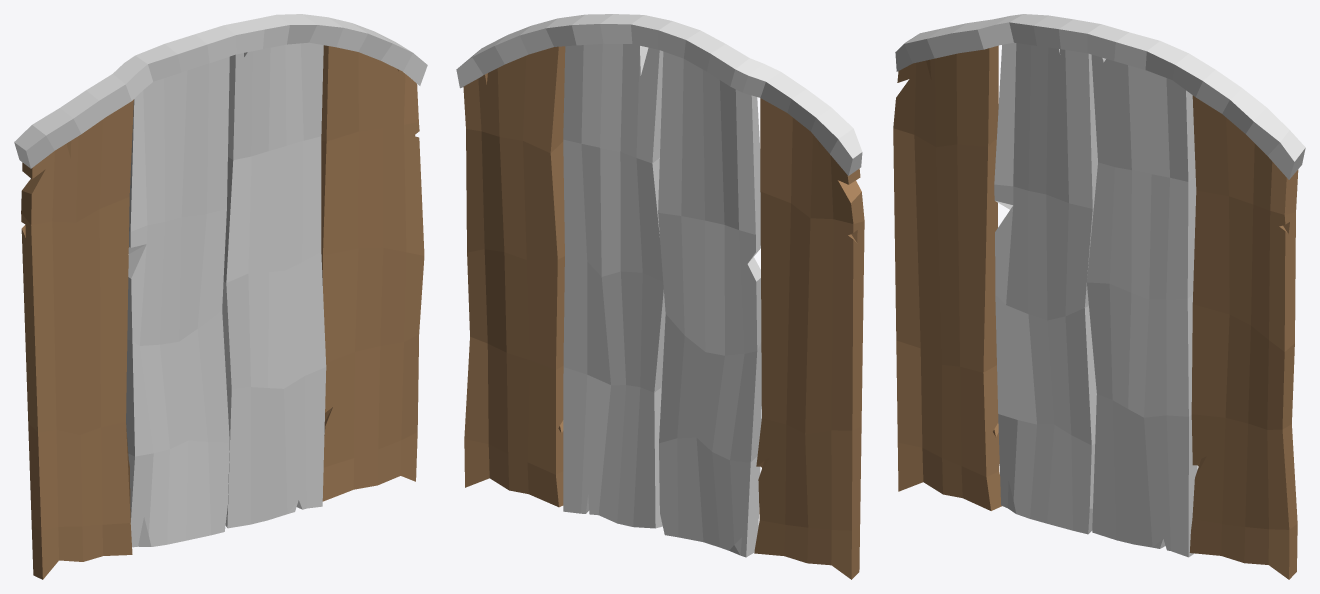
Rendered from Door.fbx.
The picture shows the model from 3 angles, left to right: view 1: azimuth 30°, elevation 25°; view 2: azimuth 150°, elevation 25°; view 3: azimuth 330°, elevation 25°; orthographic projection.
Visible parts, largest first — view 1: Cube.000, Cube.002, Cube.036, Cube.001, Cube; view 2: Cube.000, Cube.002, Cube.036, Cube.001, Cube; view 3: Cube.002, Cube.000, Cube.036, Cube.001, Cube.
Part boxes in pixels (x1,y1,x2,y2): Cube.000: (126,56,229,547); Cube.002: (222,42,326,528); Cube.036: (21,99,133,579); Cube.001: (321,45,424,501); Cube: (14,14,427,168); Cube.000: (658,51,761,557); Cube.002: (563,43,665,528); Cube.036: (754,98,864,579); Cube.001: (463,46,565,507); Cube: (456,14,862,175); Cube.002: (1087,54,1197,557); Cube.000: (994,42,1097,534); Cube.036: (893,45,1001,510); Cube.001: (1189,95,1298,579); Cube: (895,14,1305,179).
Bounding box in the file's own units: 716 × 862 × 66.89.
